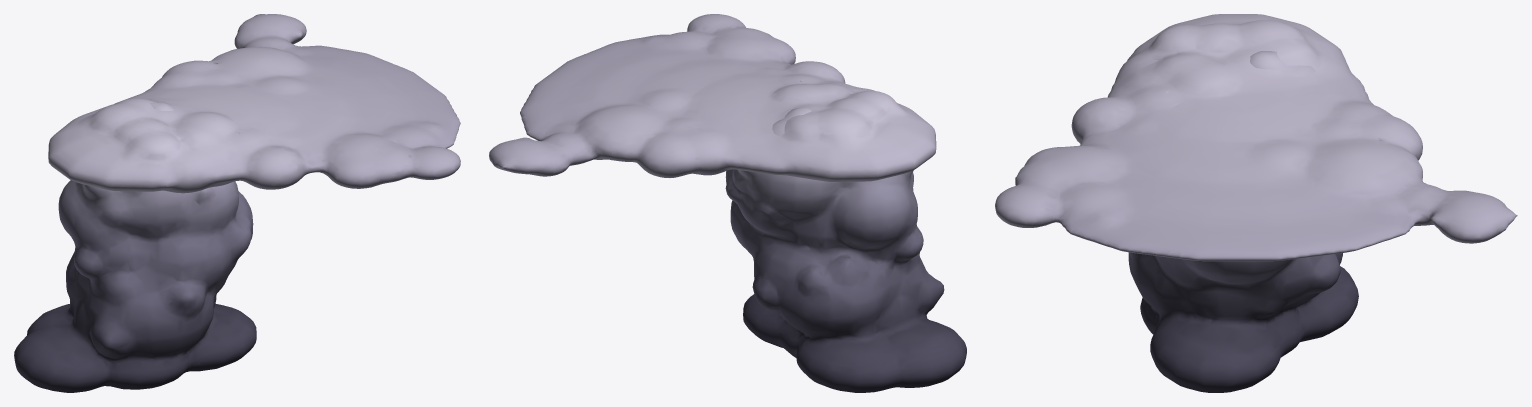
The model's file is FlyHigh_StormZone2_Cb_v2.glb.
3 views of the same model, side by side, from view 1: azimuth 30°, elevation 25°; view 2: azimuth 150°, elevation 25°; view 3: azimuth 270°, elevation 25° (orthographic). The views are drawn at different scales.
Visible parts, largest first — view 1: StormCbAnvil, StormCbTower; view 2: StormCbAnvil, StormCbTower; view 3: StormCbAnvil, StormCbTower.
Boxes of the visible parts, left/top/right/bottom form: StormCbAnvil: left=48, top=14, right=460, bottom=193; StormCbTower: left=14, top=99, right=256, bottom=392; StormCbAnvil: left=489, top=14, right=936, bottom=181; StormCbTower: left=725, top=107, right=966, bottom=392; StormCbAnvil: left=995, top=14, right=1517, bottom=261; StormCbTower: left=1128, top=51, right=1358, bottom=392.
Size of the model in its own units: 401 by 232 by 355.
Materials: 1 (1 with a texture image).
